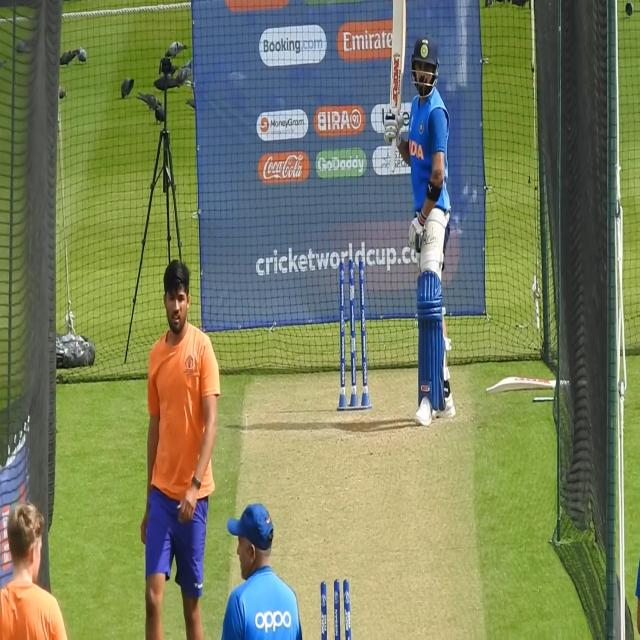stump: (337, 255, 371, 410)
